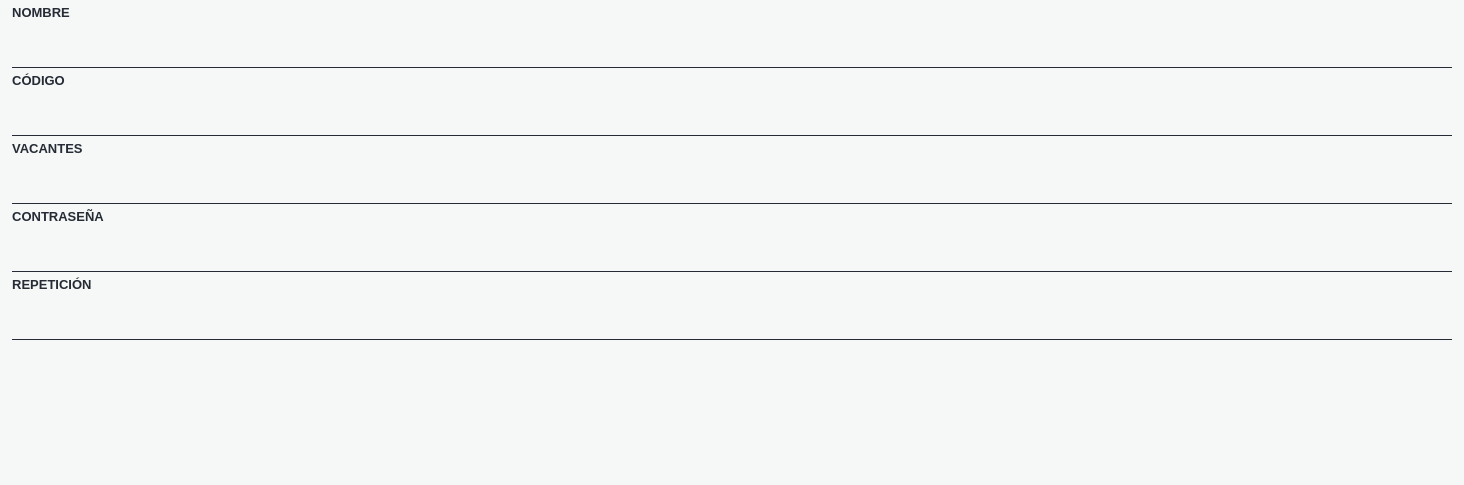
it: comprueba longitud, formato, rango y confirmación de contraseña
Type "A" into the field labelled "Nombre" at (732, 46), box x1=12 y1=24 x2=1452 y2=68
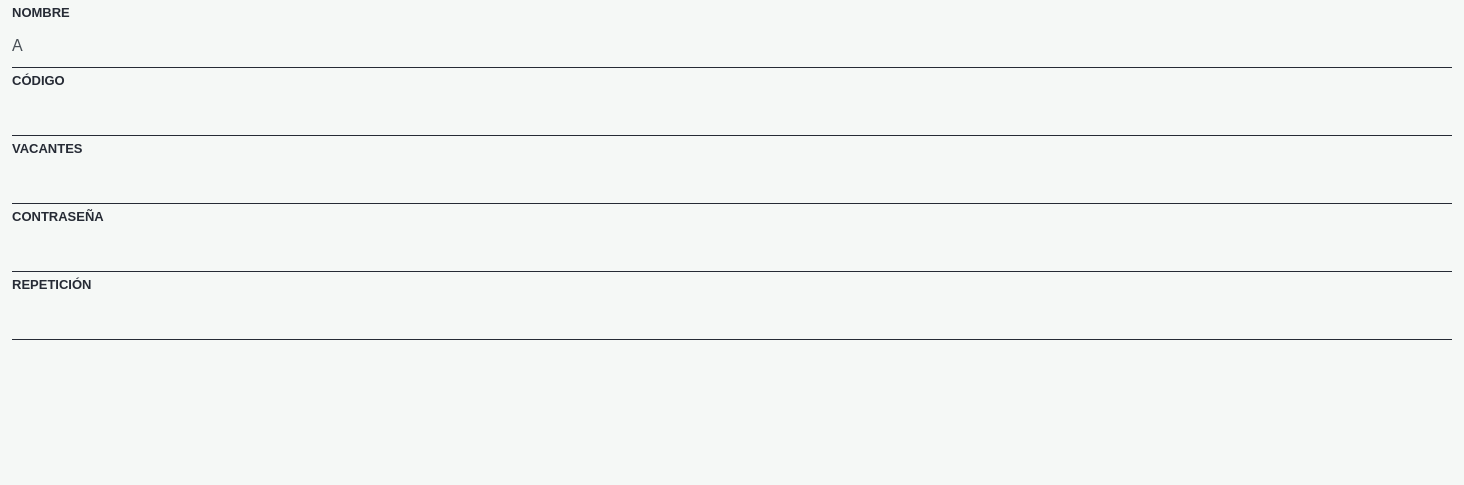
Type "ABC" into the field labelled "Código" at (732, 114), box x1=12 y1=92 x2=1452 y2=136
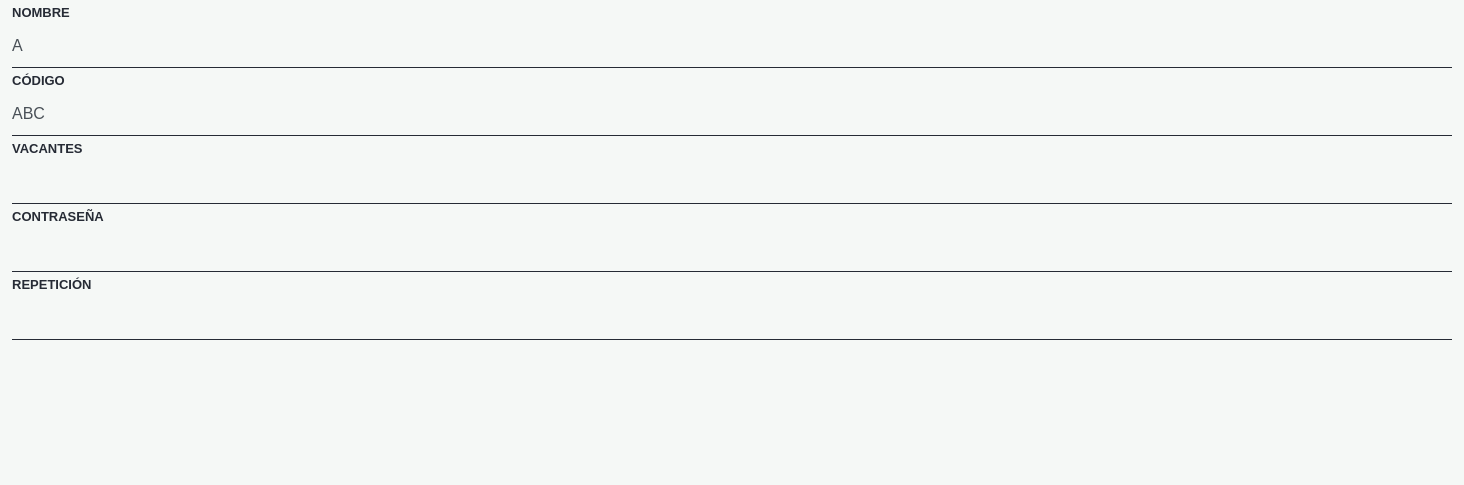
Type "11" into the number field labelled "Vacantes" at (732, 182), box x1=12 y1=160 x2=1452 y2=204
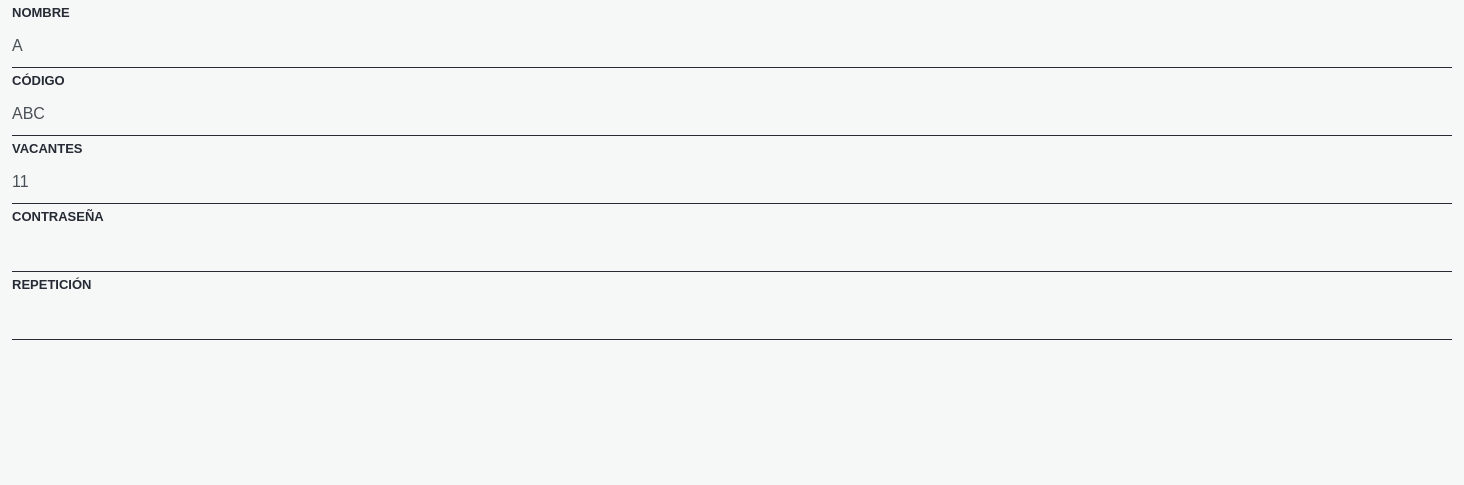
Type "primera" into the field labelled "Contraseña" at (732, 250), box x1=12 y1=228 x2=1452 y2=272
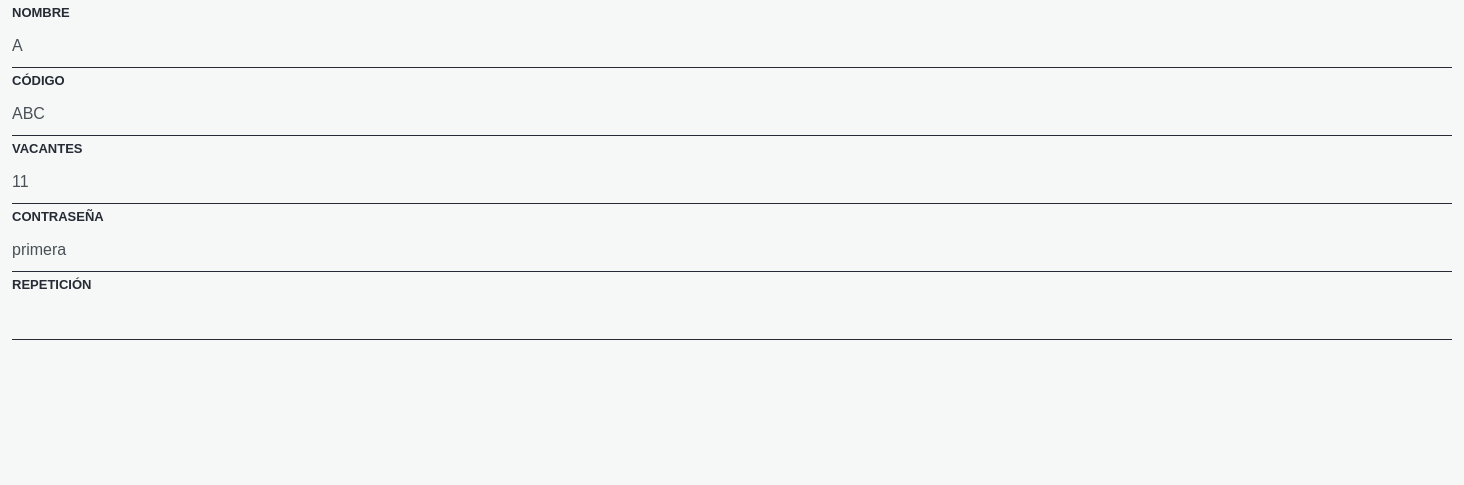
Type "segunda" into the field labelled "Repetición" at (732, 318), box x1=12 y1=296 x2=1452 y2=340
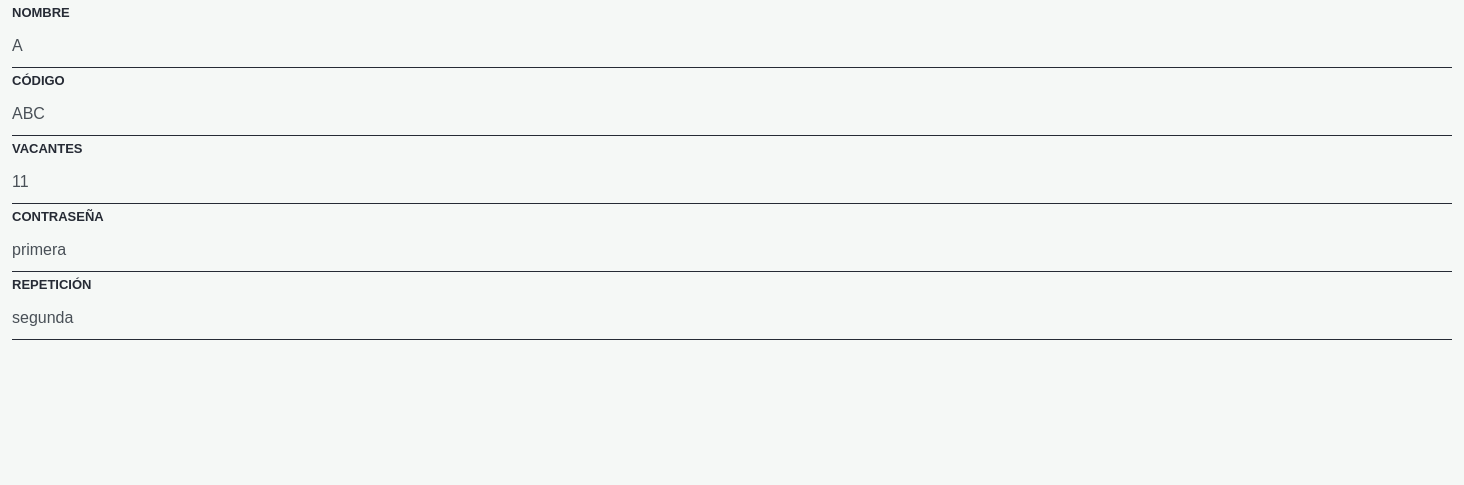
Submit the form
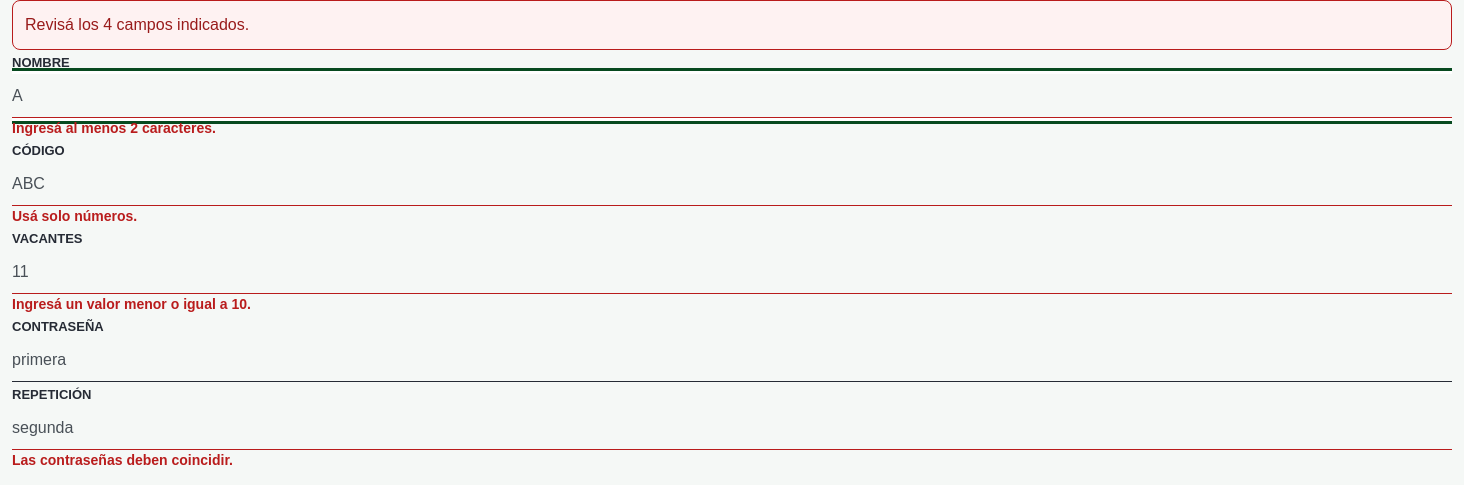
Expected: the text "Ingresá al menos 2 caracteres." is shown, x1=12 y1=120 x2=216 y2=136
Expected: the text "Usá solo números." is shown, x1=12 y1=208 x2=137 y2=224
Expected: the text "Ingresá un valor menor o igual a 10." is shown, x1=12 y1=296 x2=251 y2=312
